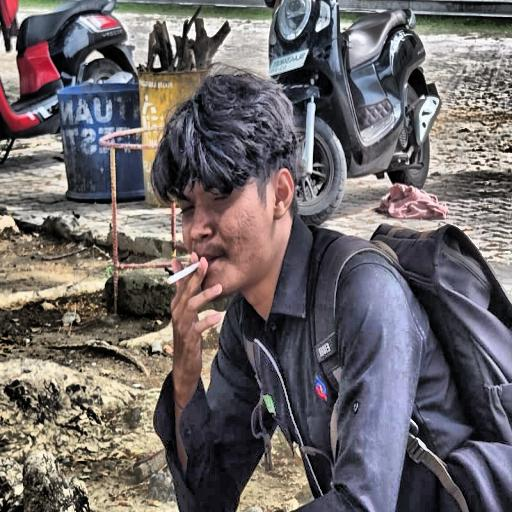Merokok: (168, 261, 200, 284)
Rokok: (171, 169, 294, 403)
